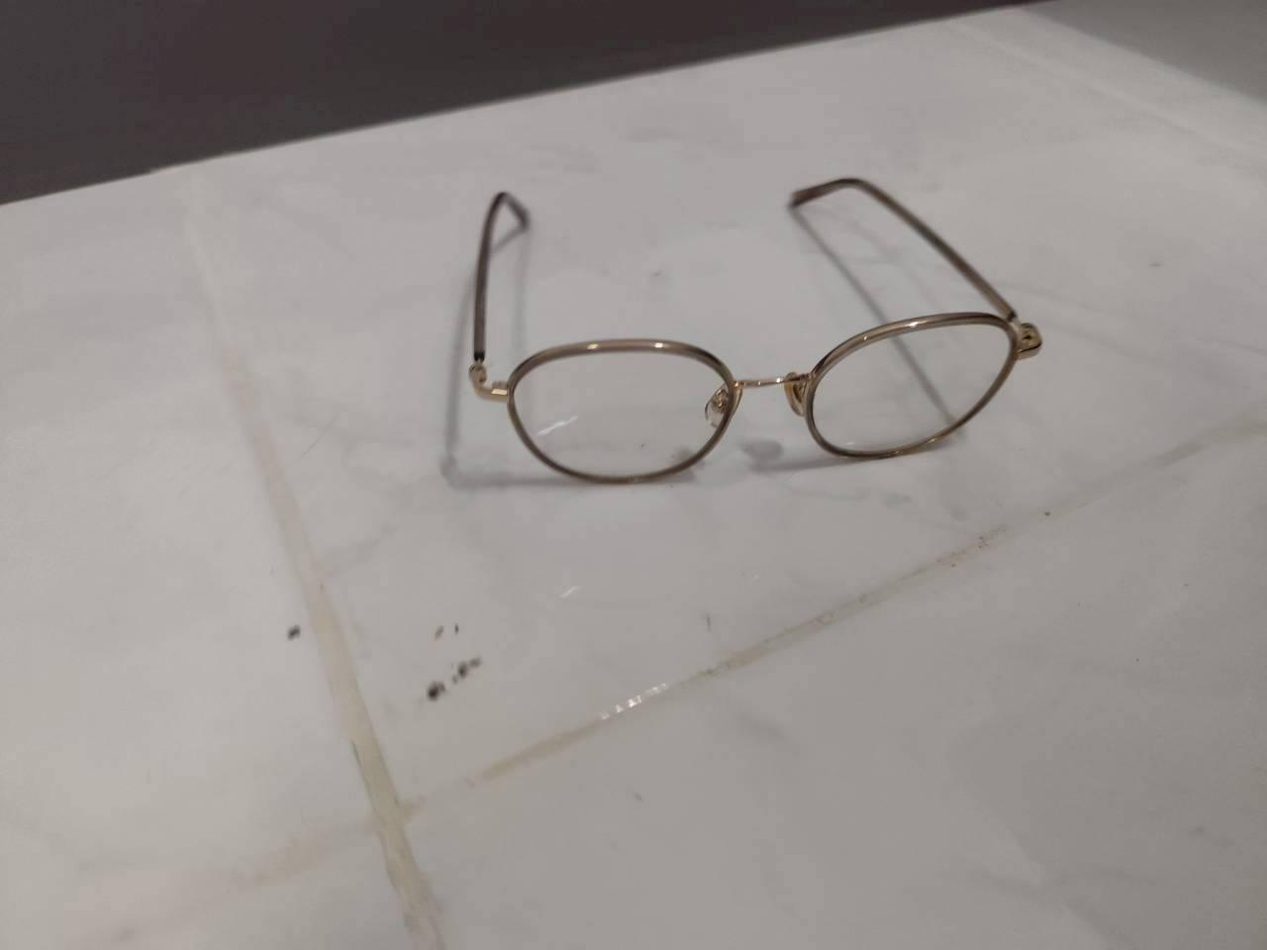glasses: (454, 168, 1053, 495)
